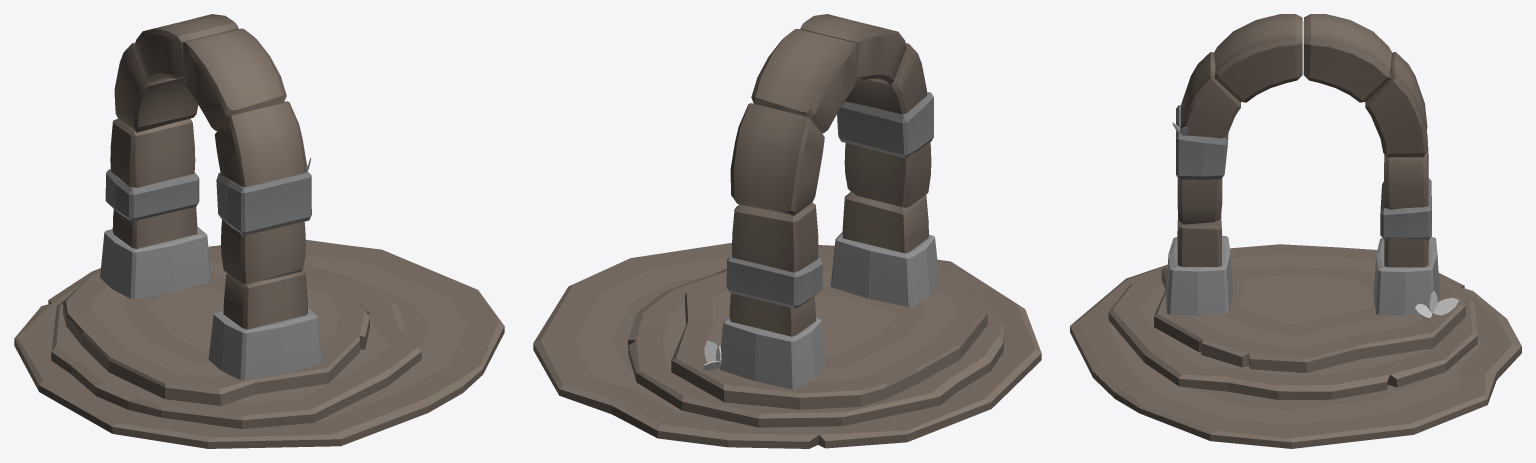
The model's file is obj_Portal.fbx.
3 renders of one model, left to right at view 1: azimuth 30°, elevation 25°; view 2: azimuth 150°, elevation 25°; view 3: azimuth 270°, elevation 25°, orthographic. The views are drawn at different scales.
Visible parts, largest first — view 1: obj_Portal; view 2: obj_Portal; view 3: obj_Portal.
Boxes of the visible parts, x1,y1,x2,y2 form: obj_Portal: (14,14,504,448); obj_Portal: (533,14,1041,448); obj_Portal: (1070,14,1521,448).
Bounding box in the file's own units: 1566 × 1156 × 1538.
